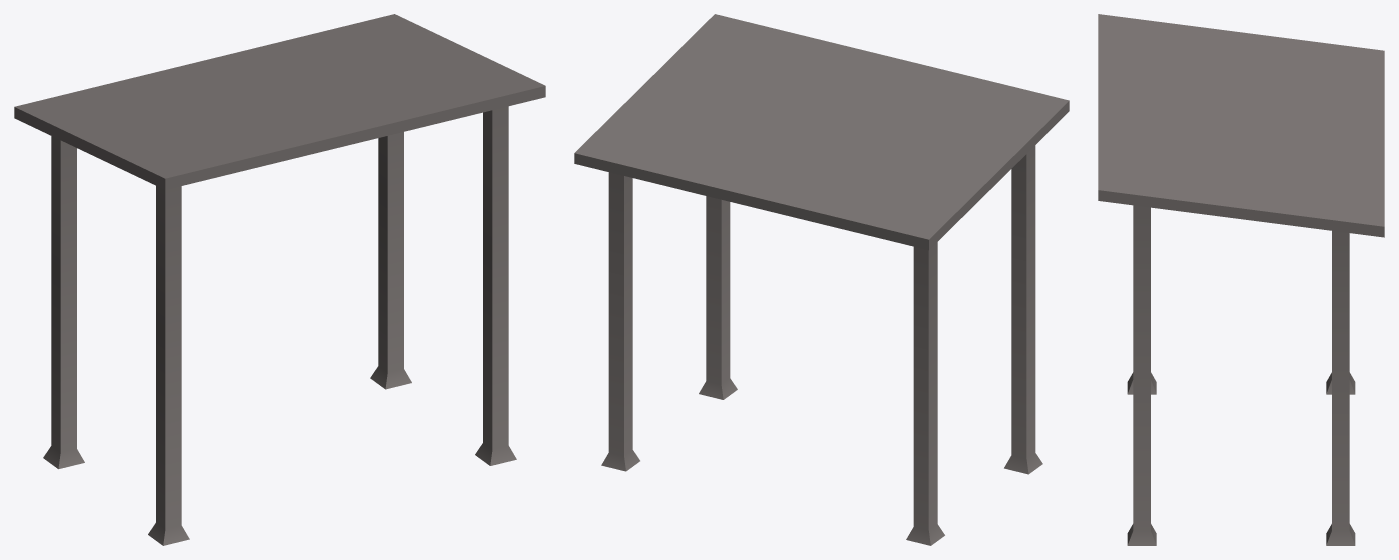
Rendered from SM_Roofing_02.FBX.
3 views of the same model, side by side, from view 1: azimuth 30°, elevation 25°; view 2: azimuth 150°, elevation 25°; view 3: azimuth 270°, elevation 25° (orthographic). The views are drawn at different scales.
Visible parts, largest first — view 1: SM_Roofing_02; view 2: SM_Roofing_02; view 3: SM_Roofing_02.
Part boxes in pixels (left/top/right/bottom): SM_Roofing_02: left=14, top=14, right=545, bottom=545; SM_Roofing_02: left=574, top=14, right=1069, bottom=545; SM_Roofing_02: left=1098, top=14, right=1384, bottom=545.
Bounding box in the file's own units: 285 × 196 × 273.
